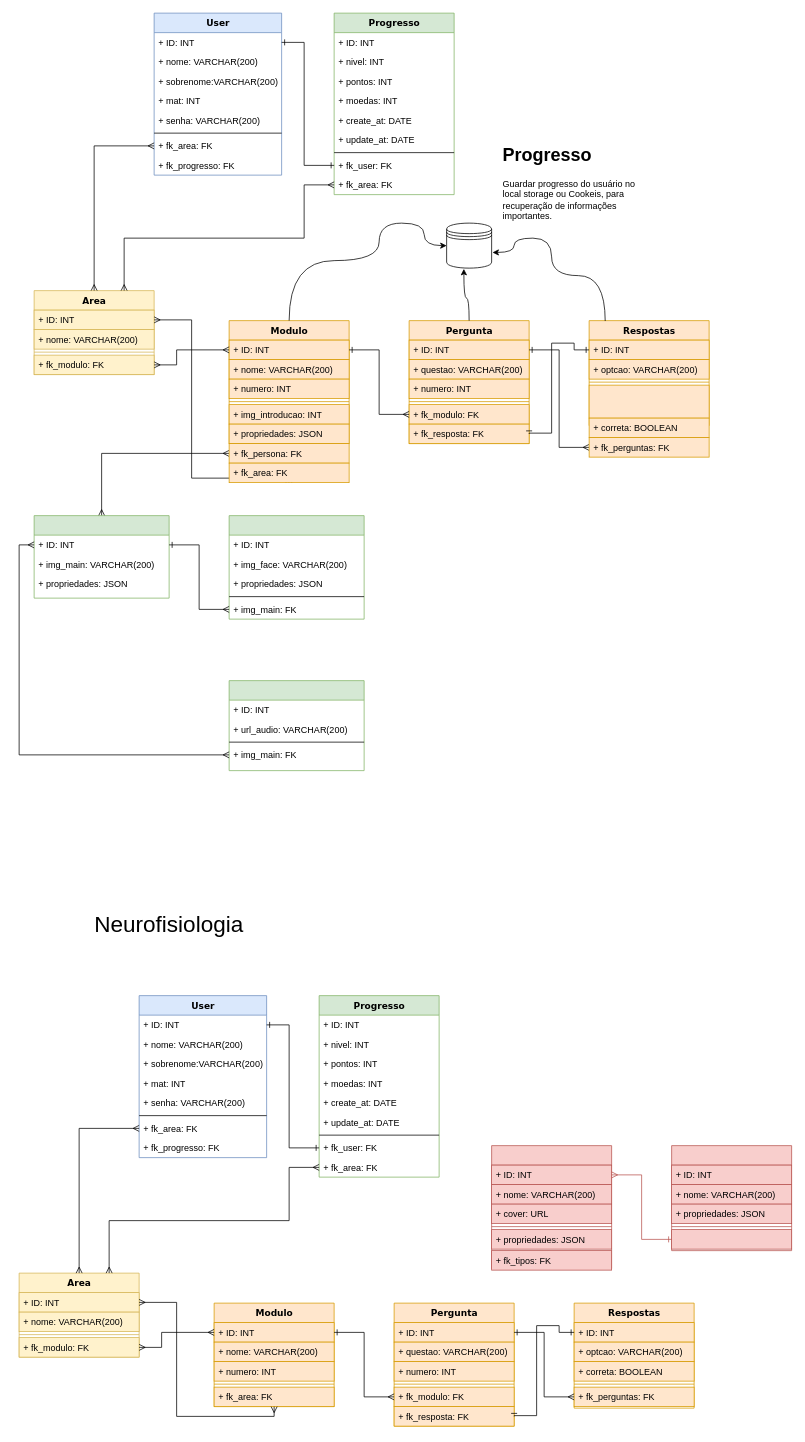
This 805x1442 diagram has some shape labels left out. The shapes that lost their labels are listed below. From the top down, each one's box as (x1, y1, x2, y2) in pixels, then its label:
(446, 222, 492, 268): Local storage
(588, 384, 709, 418): + contra_resposta: VARCHAR(200)
(33, 515, 169, 598): Cenário
(228, 515, 364, 619): Faces
(228, 680, 364, 771): Audios
(491, 1145, 612, 1269): Objetos
(671, 1145, 792, 1251): Tipos
(671, 1229, 792, 1249): + fk_objetos: FK
